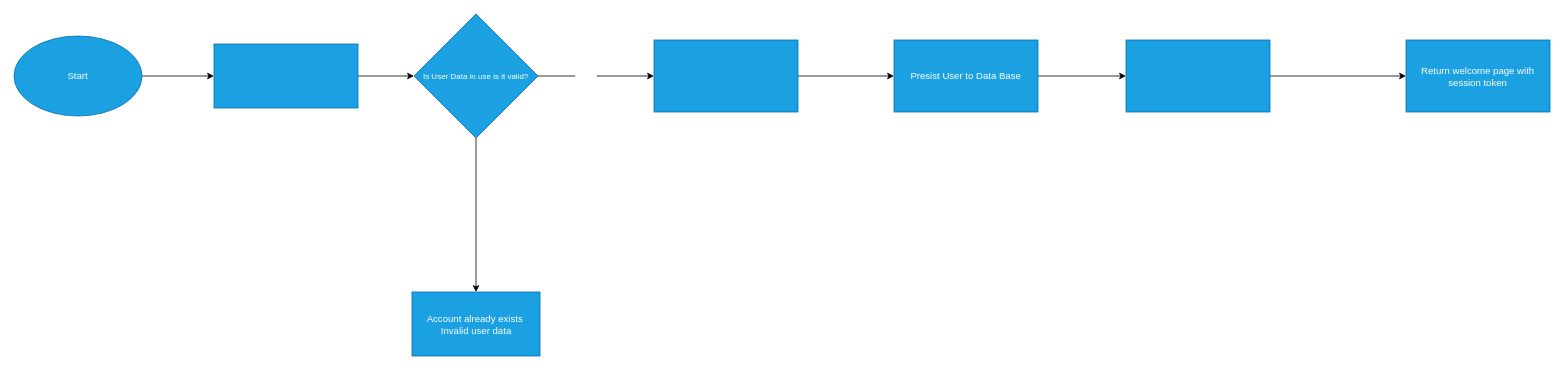
Image size: 1564x370. Some labels were removed from this diagram. Here are the shapes that lost their labels. From the top down, the centre of each, then its label:
At [285,75]: "Receive User Registration Data".
At [725,75]: "Hash Password".
At [1197,75]: "Generate session token".
